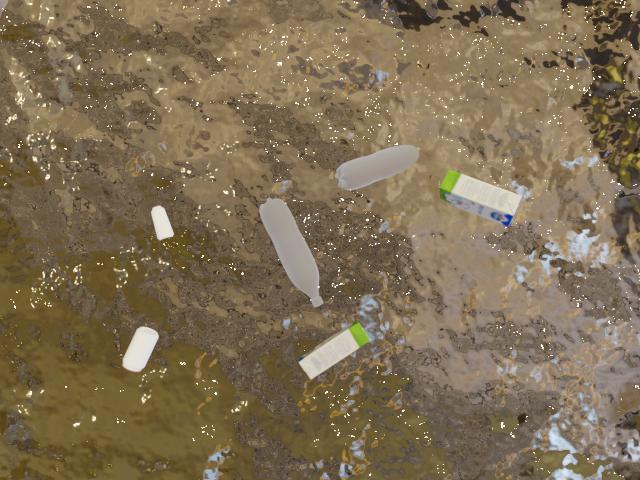Metal: (110, 322, 168, 375), (144, 188, 178, 254)
Plastic: (254, 186, 326, 315), (336, 136, 425, 196)
Trash: (292, 321, 378, 391), (435, 166, 532, 226)
